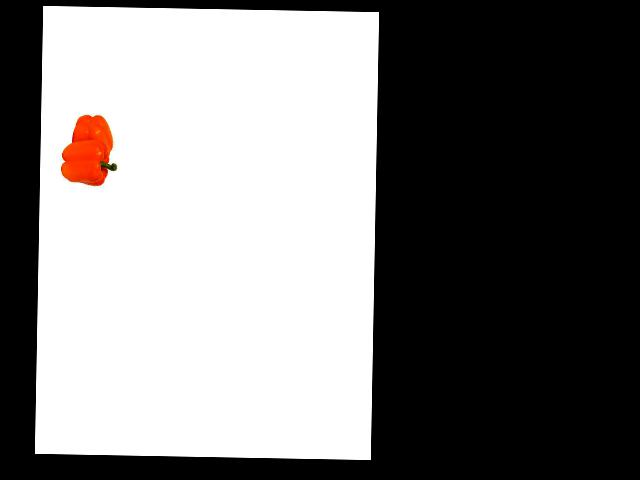bell_pepper: (66, 111, 115, 156)
